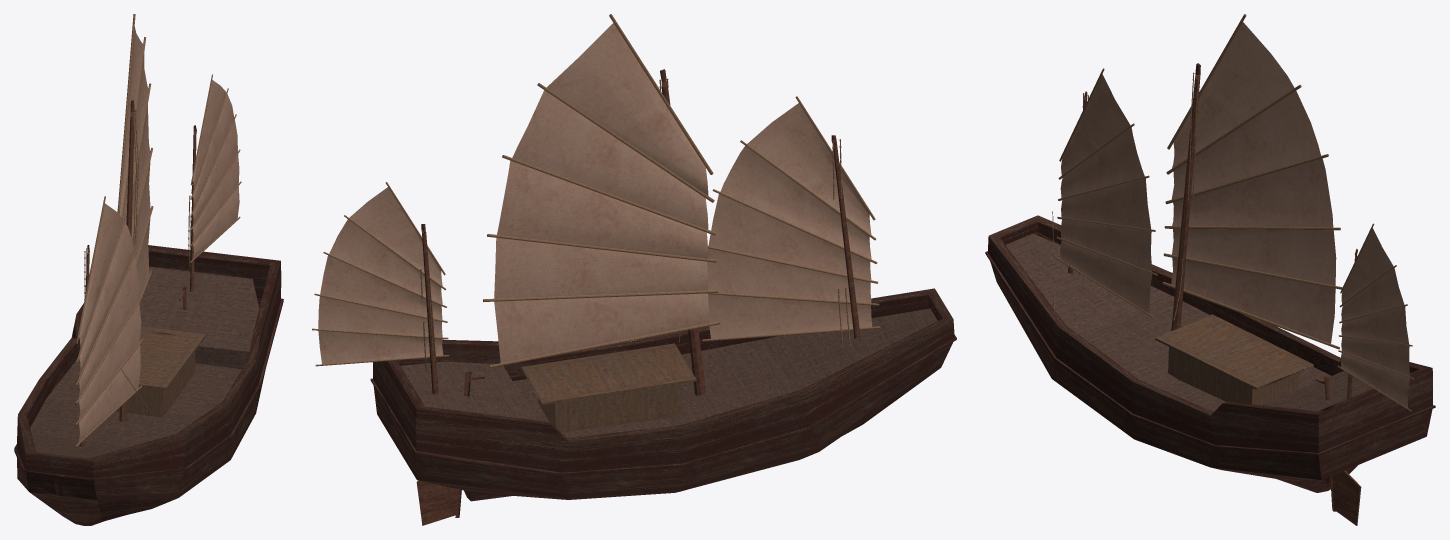
Rendered from tau-buom-2.glb.
3 renders of one model, left to right at view 1: azimuth 30°, elevation 25°; view 2: azimuth 150°, elevation 25°; view 3: azimuth 270°, elevation 25°, orthographic. The views are drawn at different scales.
Parts seen in each view (by area): view 1: Cube.089; view 2: Cube.089; view 3: Cube.089.
Part boxes in pixels (<box>): Cube.089: <box>14,14,283,525</box>; Cube.089: <box>312,14,956,525</box>; Cube.089: <box>985,14,1435,525</box>.
Bounding box in the file's own units: 0.924 × 1 × 0.8974.
7 materials, 7 textured.
